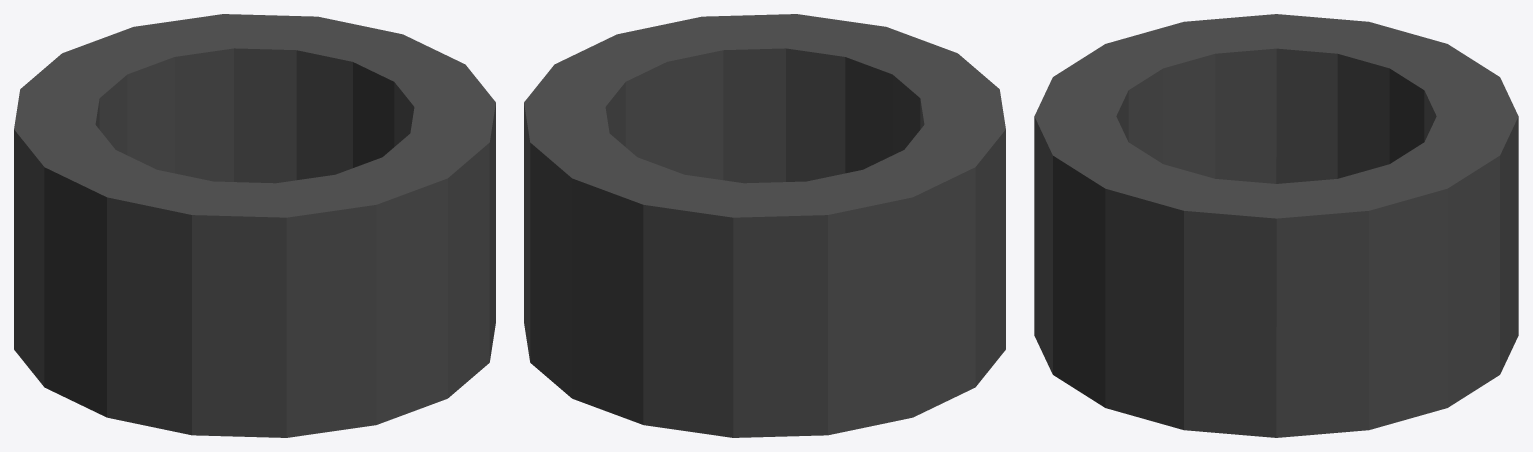
File: Props_Tape_01.fbx
3 views of the same model, side by side, from view 1: azimuth 30°, elevation 25°; view 2: azimuth 150°, elevation 25°; view 3: azimuth 270°, elevation 25° (orthographic).
Visible parts, largest first — view 1: Props_Tape_01; view 2: Props_Tape_01; view 3: Props_Tape_01.
Boxes of the visible parts, x1,y1,x2,y2 form: Props_Tape_01: (14,14,495,437); Props_Tape_01: (524,14,1005,437); Props_Tape_01: (1034,14,1518,437).
Bounding box in the file's own units: 27.64 × 13.82 × 27.64.
